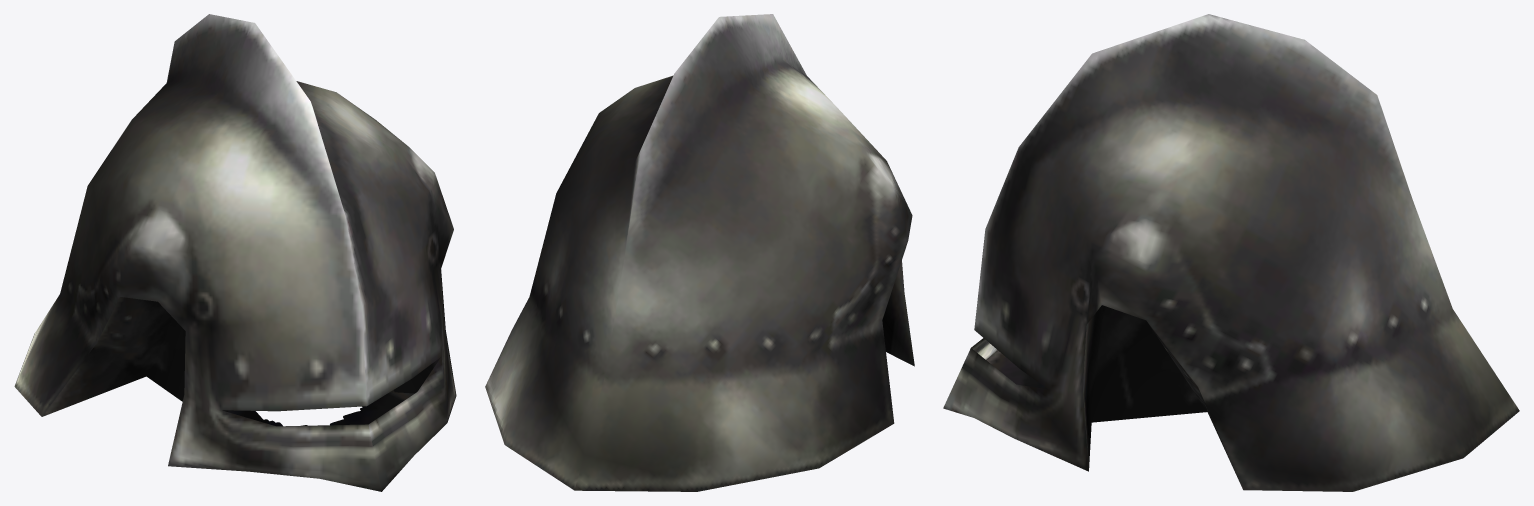
3 renders of one model, left to right at view 1: azimuth 30°, elevation 25°; view 2: azimuth 150°, elevation 25°; view 3: azimuth 270°, elevation 25°, orthographic. The views are drawn at different scales.
Parts seen in each view (by area): view 1: EM_011021_01_063; view 2: EM_011021_01_063; view 3: EM_011021_01_063.
Boxes of the visible parts, x1,y1,x2,y2 form: EM_011021_01_063: (14, 14, 456, 491); EM_011021_01_063: (485, 14, 914, 491); EM_011021_01_063: (943, 14, 1519, 491).
Bounding box in the file's own units: 0.2441 × 0.2244 × 0.2956.
1 material, 1 textured.
